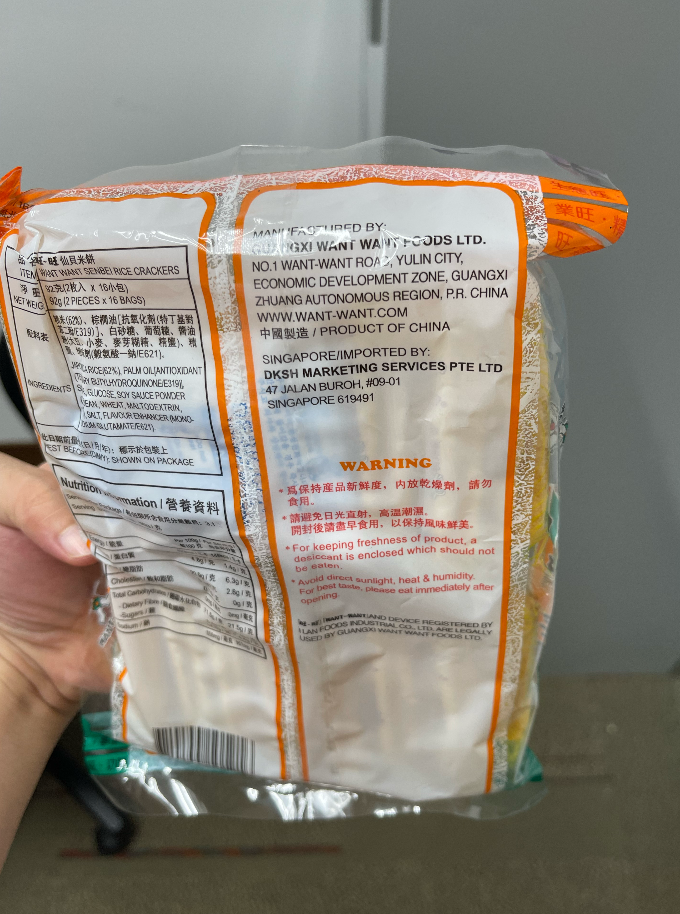crackers_1g-99g: (51, 187, 532, 800)
